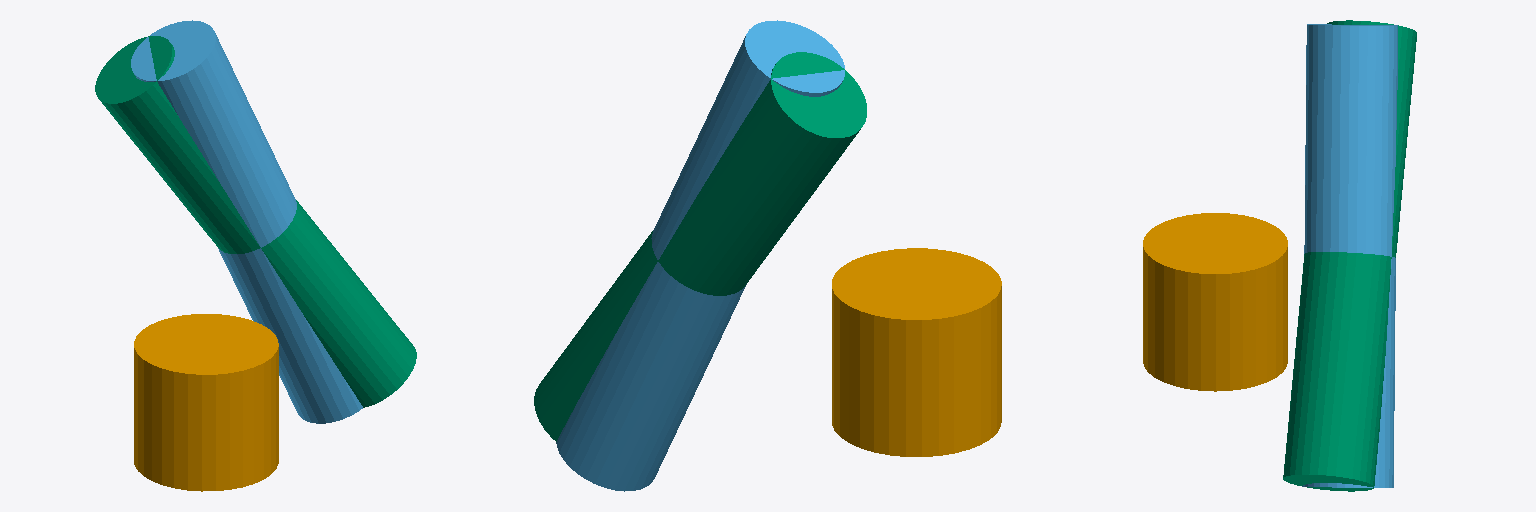
The robot description file, URDF, robot "pepe":
<?xml version="1.0"?><robot name="pepe">
	<link name="0">
		<visual>
			<geometry>
				<cylinder length="0.7893298455281619" radius="0.4449545980872709"/>
			</geometry>
		</visual>
		<collision>
			<geometry>
				<cylinder length="0.7893298455281619" radius="0.4449545980872709"/>
			</geometry>
		</collision>
		<inertial>
			<mass value="0.4909528609240759"/>
			<inertia ixx="0.03" iyy="0.03" izz="0.03" ixy="0" ixz="0" iyx="0"/>
		</inertial>
	</link>
	<link name="11">
		<visual>
			<geometry>
				<cylinder length="2.8219324425915286" radius="0.2802727606231159"/>
			</geometry>
		</visual>
		<collision>
			<geometry>
				<cylinder length="2.8219324425915286" radius="0.2802727606231159"/>
			</geometry>
		</collision>
		<inertial>
			<mass value="0.6963992066119021"/>
			<inertia ixx="0.03" iyy="0.03" izz="0.03" ixy="0" ixz="0" iyx="0"/>
		</inertial>
	</link>
	<link name="12">
		<visual>
			<geometry>
				<cylinder length="2.8219324425915286" radius="0.2802727606231159"/>
			</geometry>
		</visual>
		<collision>
			<geometry>
				<cylinder length="2.8219324425915286" radius="0.2802727606231159"/>
			</geometry>
		</collision>
		<inertial>
			<mass value="0.6963992066119021"/>
			<inertia ixx="0.03" iyy="0.03" izz="0.03" ixy="0" ixz="0" iyx="0"/>
		</inertial>
	</link>
	<joint name="11_to_0" type="revolute">
		<parent link="0"/>
		<child link="11"/>
		<axis xyz="0 0 1"/>
		<limit effort="1" upper="-3.1415" lower="3.1415" velocity="1"/>
		<origin rpy="5.8952369049848725 3.3106343739814474 4.297380134307079" xyz="0.8262303950921 0.8226883777035289 0.6965361425547957"/>
	</joint>
	<joint name="12_to_0" type="revolute">
		<parent link="0"/>
		<child link="12"/>
		<axis xyz="0 0 1"/>
		<limit effort="1" upper="-3.1415" lower="3.1415" velocity="1"/>
		<origin rpy="8.842855357477308 3.3106343739814474 4.297380134307079" xyz="0.8262303950921 0.8226883777035289 0.6965361425547957"/>
	</joint>
</robot>

--- Facts derived from the render (not from the file) ---
3 views of the same robot in one strip: view 1: azimuth 30°, elevation 25°; view 2: azimuth 150°, elevation 25°; view 3: azimuth 270°, elevation 25° (orthographic).
Robot: pepe — 3 links, 2 joints (2 revolute); root link 0; default pose: all joints at 0.
Links seen in each view (by area): view 1: 12, 0, 11; view 2: 0, 11, 12; view 3: 0, 12, 11.
Link boxes in pixels (x1=…): 12: x1=95, y1=36, x2=416, y2=407; 0: x1=134, y1=314, x2=278, y2=491; 11: x1=131, y1=20, x2=362, y2=423; 0: x1=832, y1=248, x2=1001, y2=456; 11: x1=556, y1=20, x2=844, y2=491; 12: x1=534, y1=52, x2=866, y2=441; 0: x1=1143, y1=213, x2=1287, y2=391; 12: x1=1283, y1=20, x2=1416, y2=491; 11: x1=1302, y1=24, x2=1397, y2=487.
Size in the robot's own frame: 2.29 by 1.68 by 2.8 metres.
Geometry: primitives only (box / cylinder / sphere), no mesh files.
